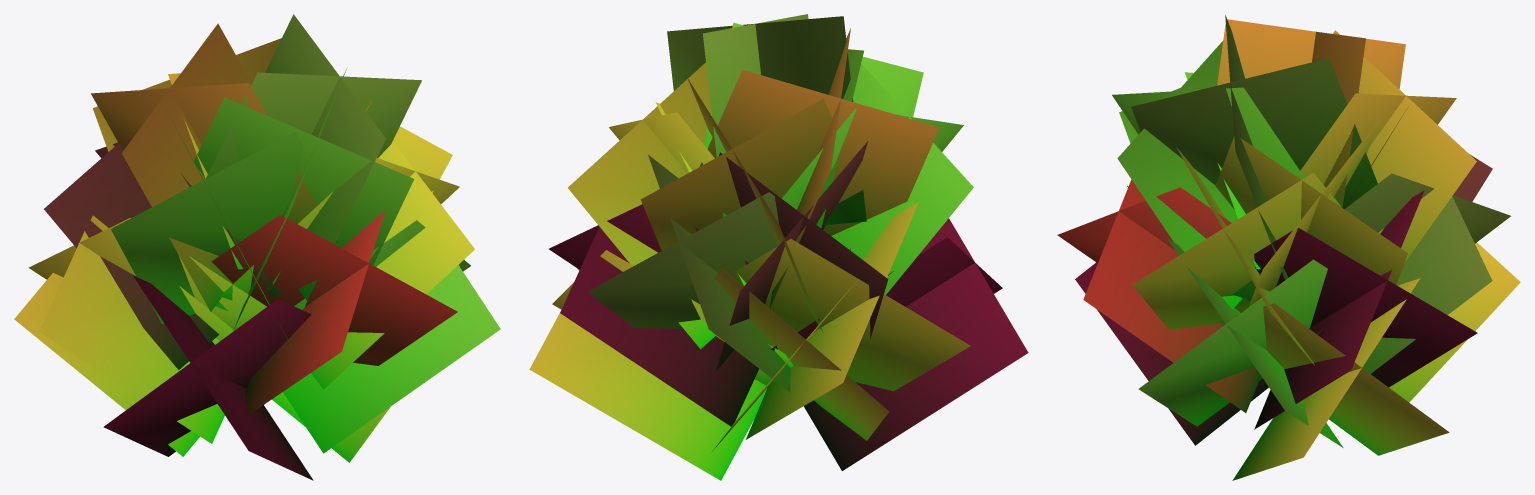
Rendered from Tree_17.fbx.
3 renders of one model, left to right at view 1: azimuth 30°, elevation 25°; view 2: azimuth 150°, elevation 25°; view 3: azimuth 270°, elevation 25°, orthographic.
Parts seen in each view (by area): view 1: Tree_17; view 2: Tree_17; view 3: Tree_17.
Part boxes in pixels (<box>): Tree_17: <box>14,14,500,480</box>; Tree_17: <box>529,14,1028,480</box>; Tree_17: <box>1057,15,1520,480</box>.
Size of the model in its own units: 1078 by 1015 by 1016.
